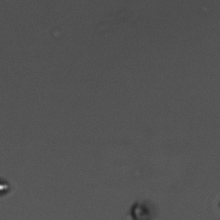Dead Cell: (130, 199, 155, 218)
Living Cell: (1, 178, 12, 196)
